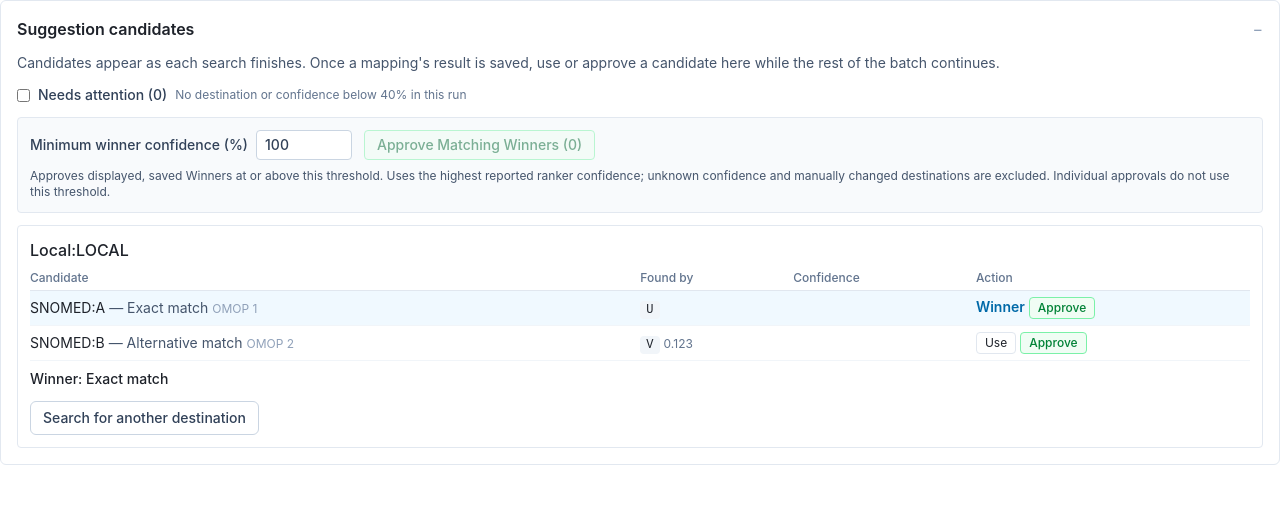
Test: approve from suggest results › reports approve failures and allows retry
Step 1. Click the button with aria-label "Approve Exact match for LOCAL" → (1062, 308), box [1029,297,1095,319]
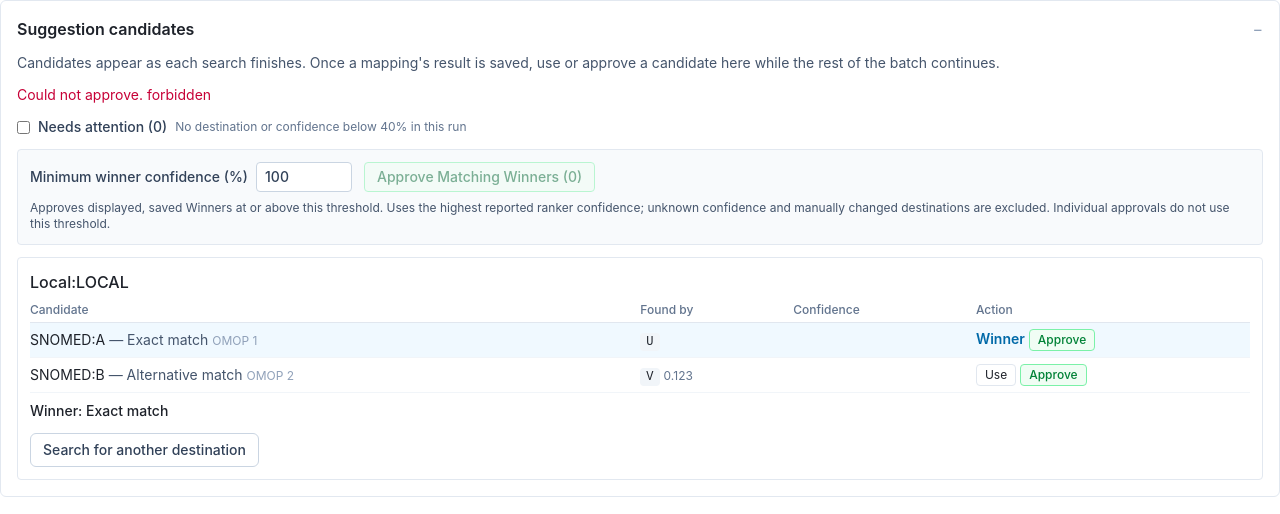
Expected: the button with aria-label "Approve Exact match for LOCAL" is enabled, [1029,329,1095,351]
Result: the message shows "Could not approve" at [17,86,211,103]
